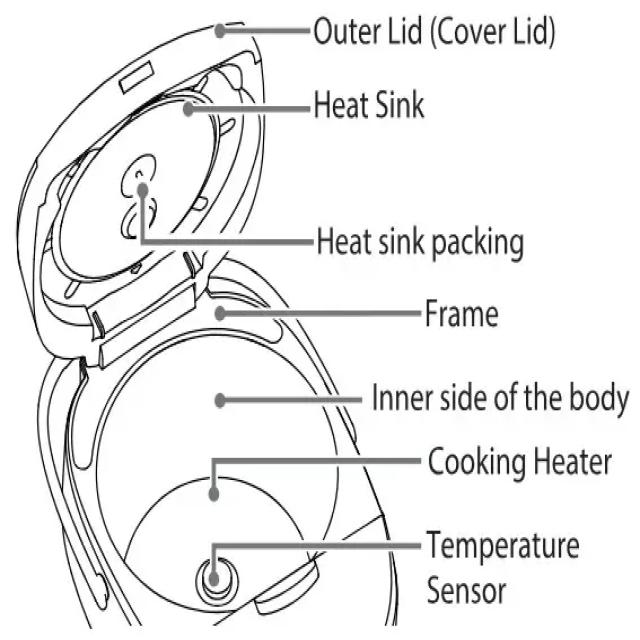electronics: (18, 24, 396, 627), (430, 225, 523, 261), (313, 87, 424, 117), (314, 14, 421, 44), (427, 298, 498, 325)
